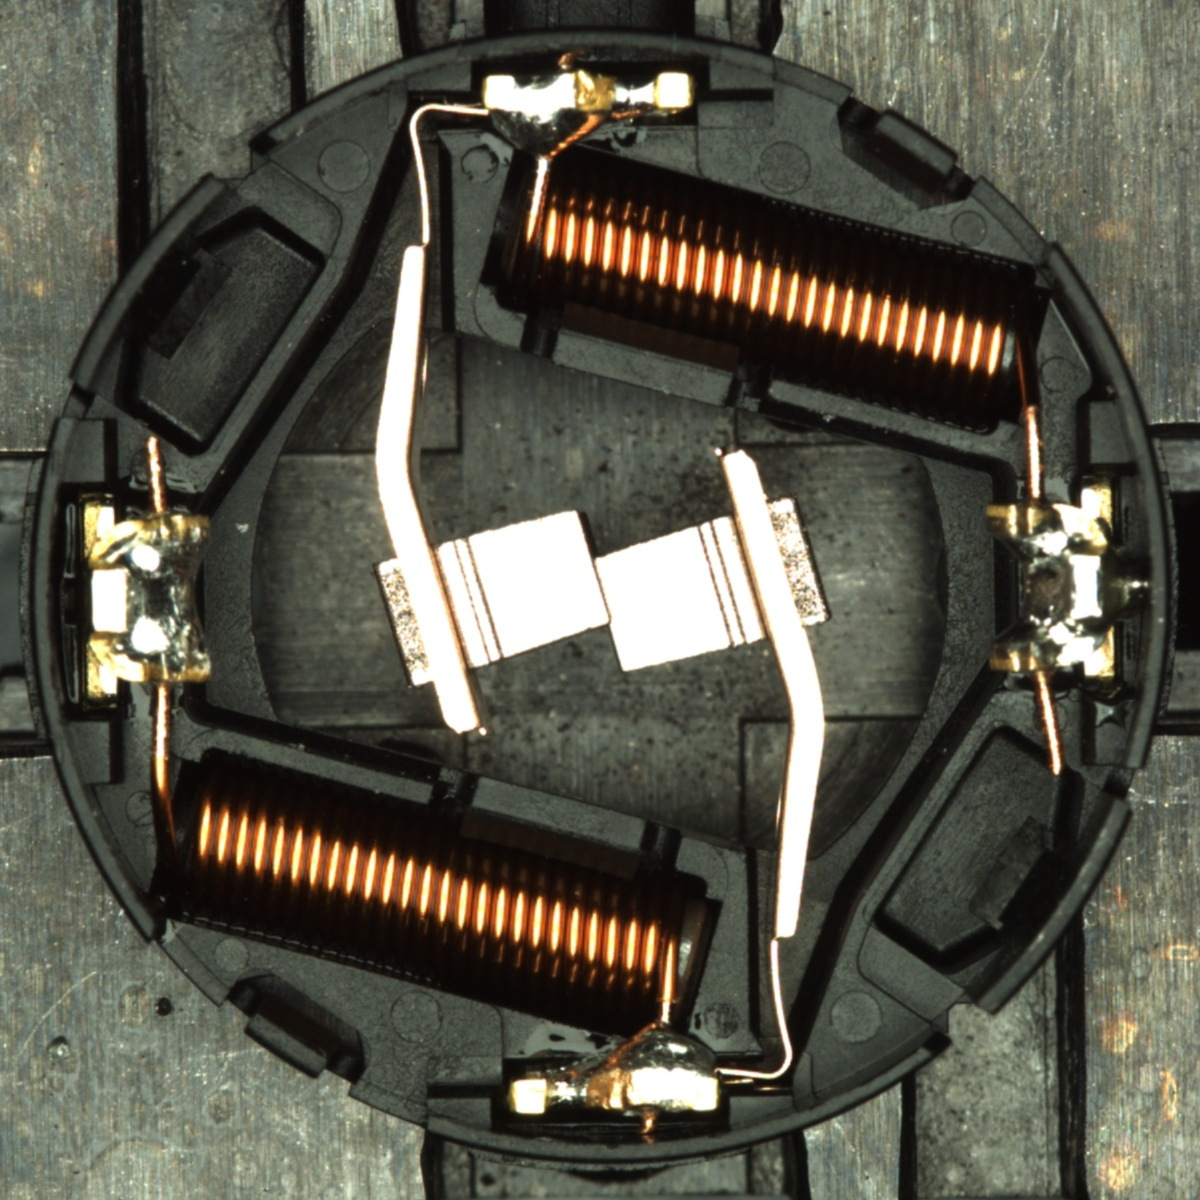1: (253, 29, 482, 254), (712, 927, 941, 1151)
2: (712, 29, 941, 254), (253, 927, 482, 1151)
3: (941, 703, 1170, 927), (24, 254, 253, 478)
4: (253, 254, 482, 478), (712, 703, 941, 927)
5: (482, 142, 712, 366), (482, 815, 712, 1038)
6: (253, 703, 482, 927), (712, 254, 941, 478)
7: (941, 254, 1170, 478), (24, 703, 253, 927)
cacbon: (397, 497, 797, 684)
chau_dien: (77, 499, 216, 698), (979, 485, 1119, 684)
chi_dinh_thanh_de: (1124, 566, 1154, 607)
tay_choi: (507, 1020, 721, 1119), (481, 66, 697, 162)
thanh_de: (952, 784, 1138, 1030), (59, 163, 243, 404)
vun_chi: (1105, 558, 1154, 620)
